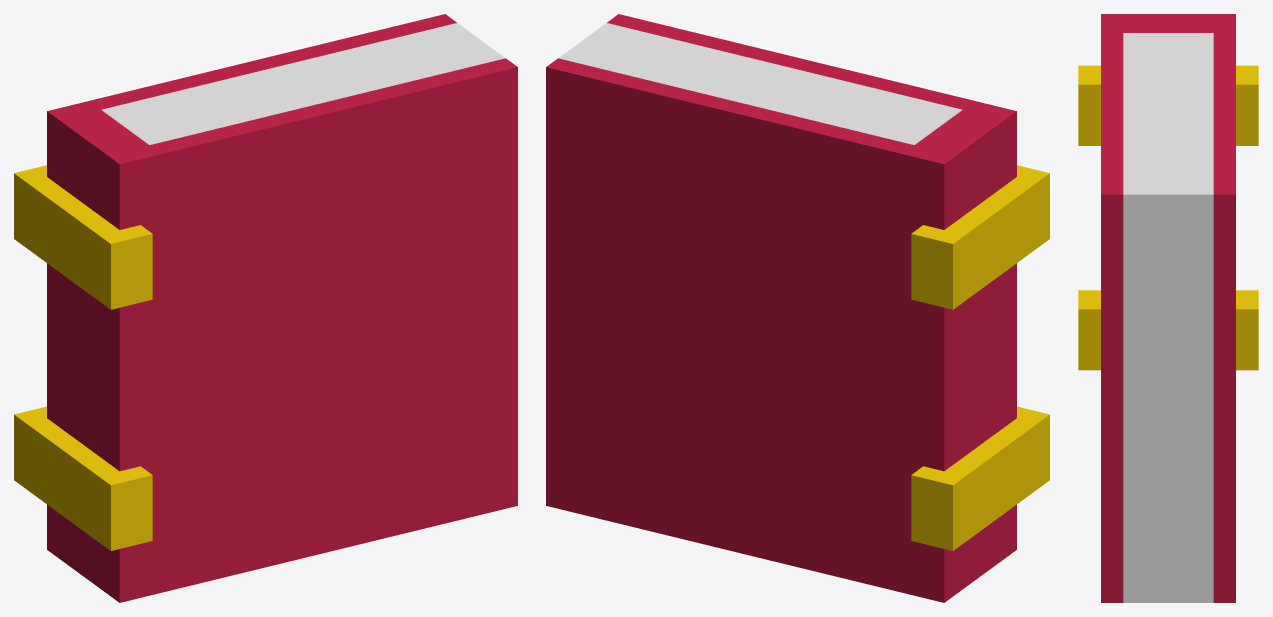
File: SchoolPack-62-book.obj
3 views of the same model, side by side, from view 1: azimuth 30°, elevation 25°; view 2: azimuth 150°, elevation 25°; view 3: azimuth 270°, elevation 25° (orthographic). The views are drawn at different scales.
Visible parts, largest first — view 1: book; view 2: book; view 3: book.
Part boxes in pixels (box(x1,y1,x2,y2)): book: box(14, 14, 517, 602); book: box(546, 14, 1049, 602); book: box(1078, 14, 1258, 602).
Size of the model in its own units: 2 by 2 by 0.8.
1 material, 1 textured.
